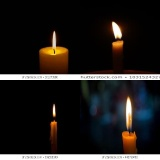fire: (110, 20, 125, 39), (126, 96, 133, 130), (51, 29, 57, 48), (53, 103, 57, 117)
